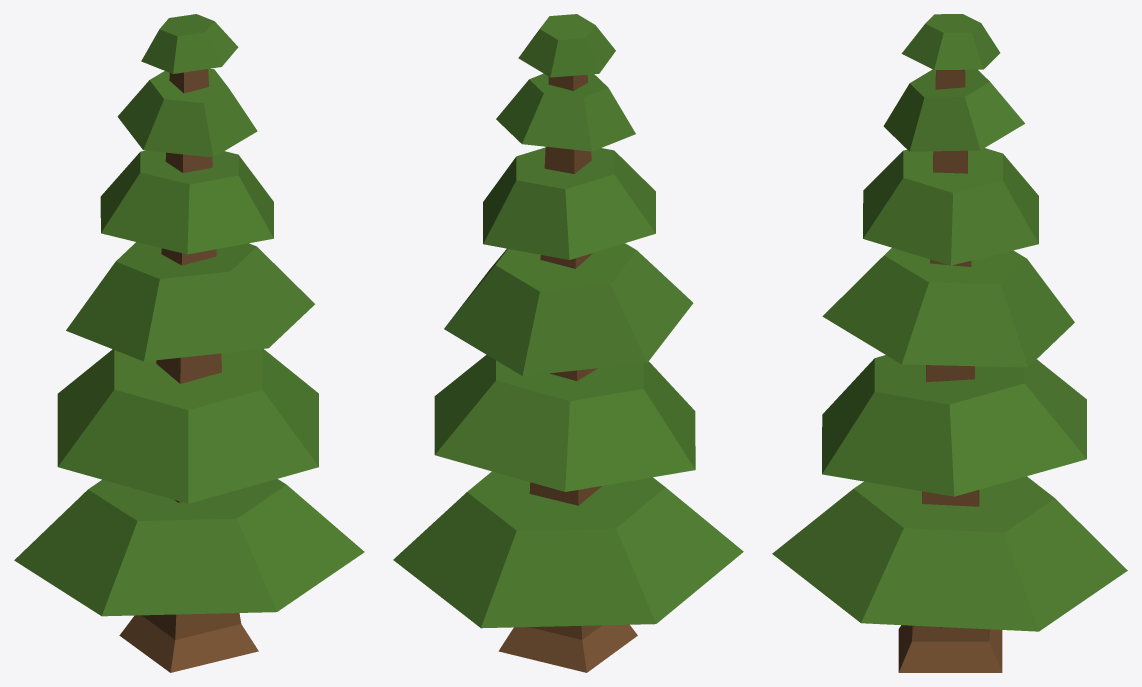
The model's file is tree_pineRoundB.glb.
3 renders of one model, left to right at view 1: azimuth 30°, elevation 25°; view 2: azimuth 150°, elevation 25°; view 3: azimuth 270°, elevation 25°, orthographic.
Parts seen in each view (by area): view 1: tree_pineRoundB; view 2: tree_pineRoundB; view 3: tree_pineRoundB.
Boxes of the visible parts, x1,y1,x2,y2 form: tree_pineRoundB: (14,14,364,672); tree_pineRoundB: (393,14,743,672); tree_pineRoundB: (772,14,1127,672).
Size of the model in its own units: 0.5322 by 1.2 by 0.6132.
